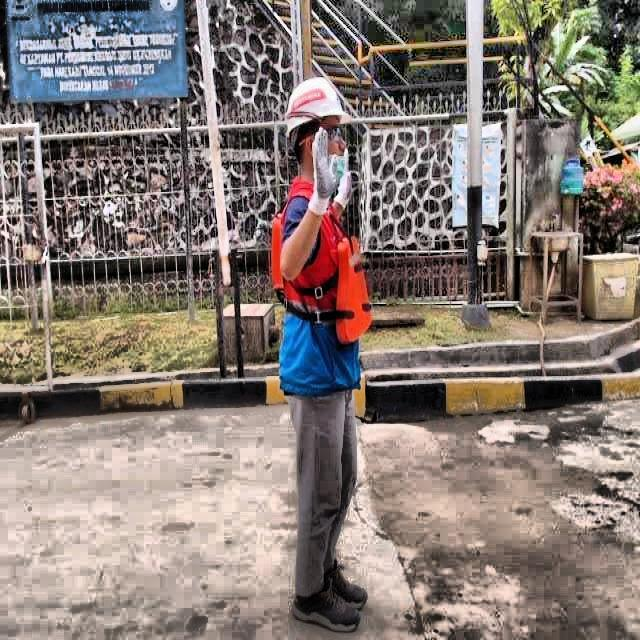safety_helmet: (277, 72, 352, 139)
safety_jacket: (260, 185, 383, 376)
